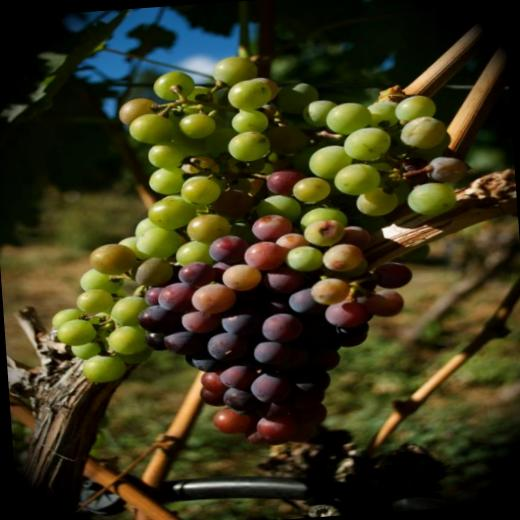Orange: (37, 40, 490, 458)
